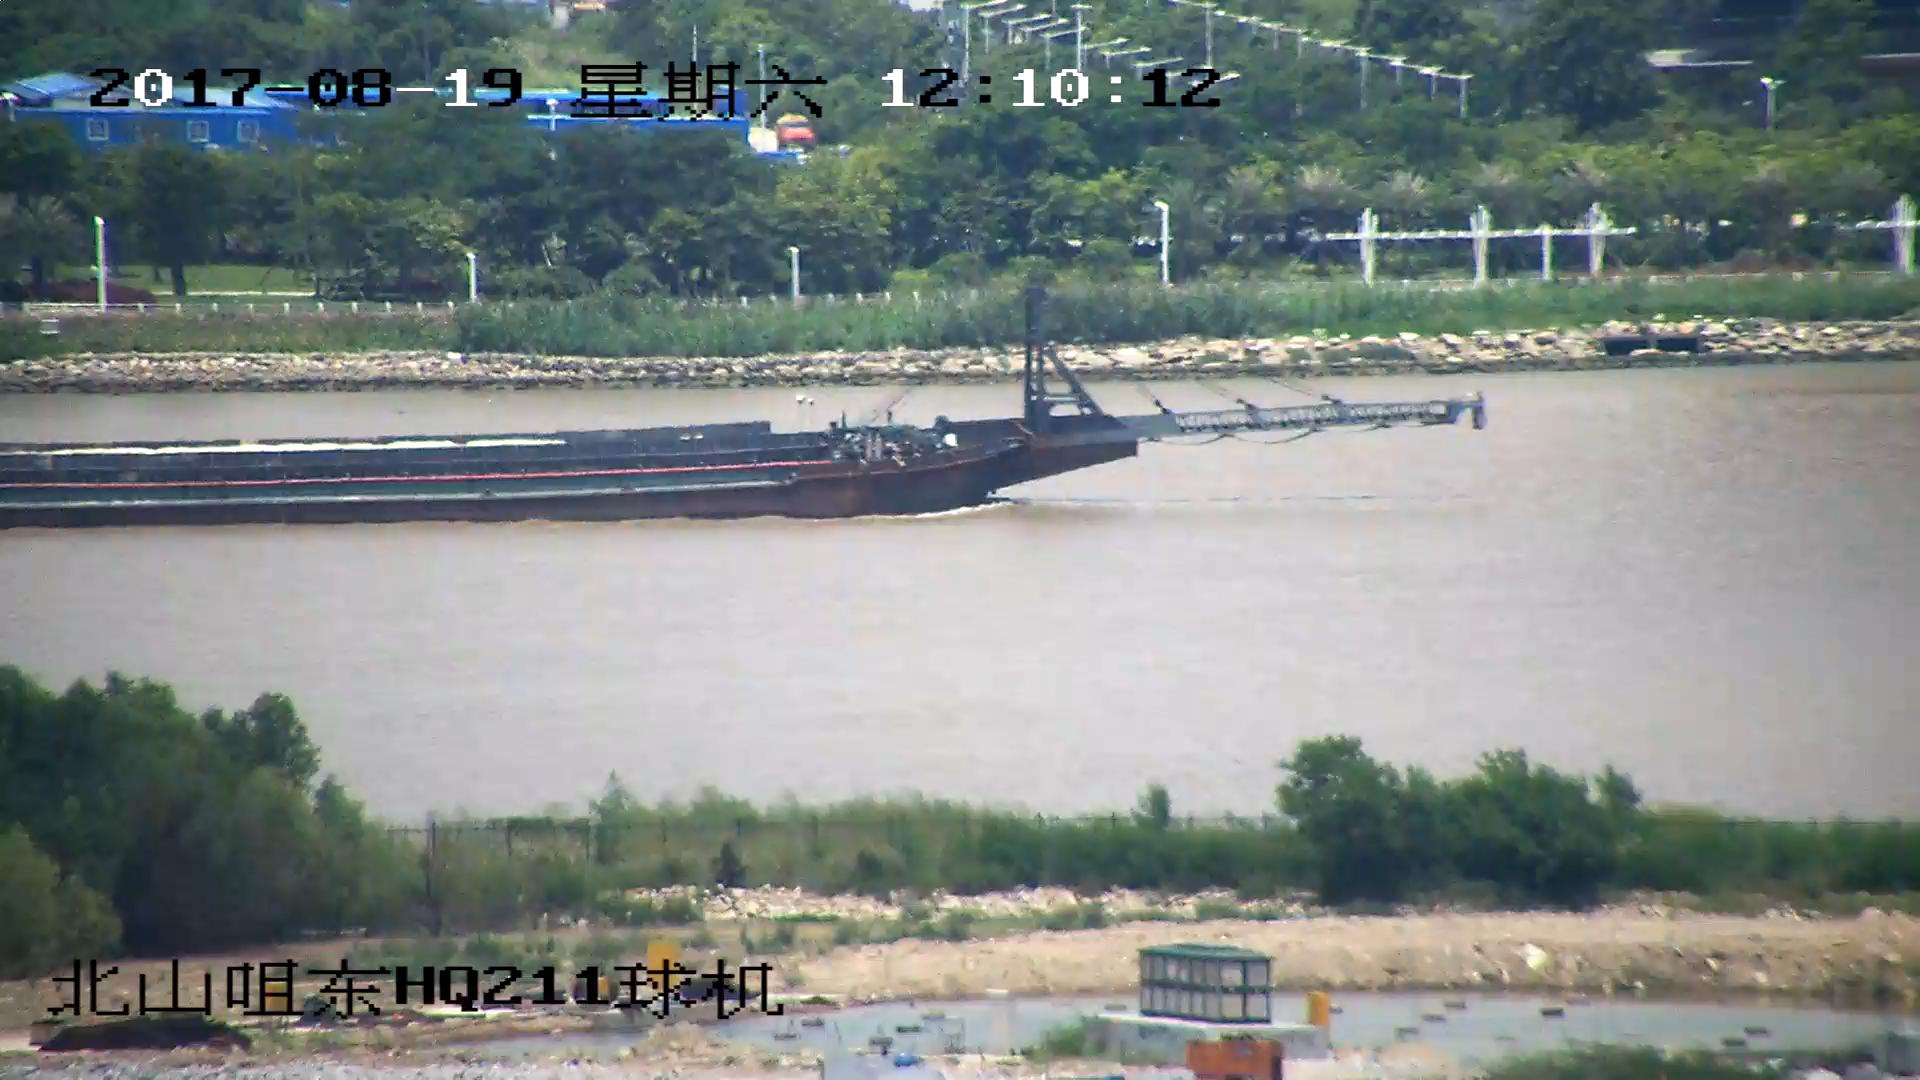bulk cargo carrier: (1, 276, 1485, 529)
